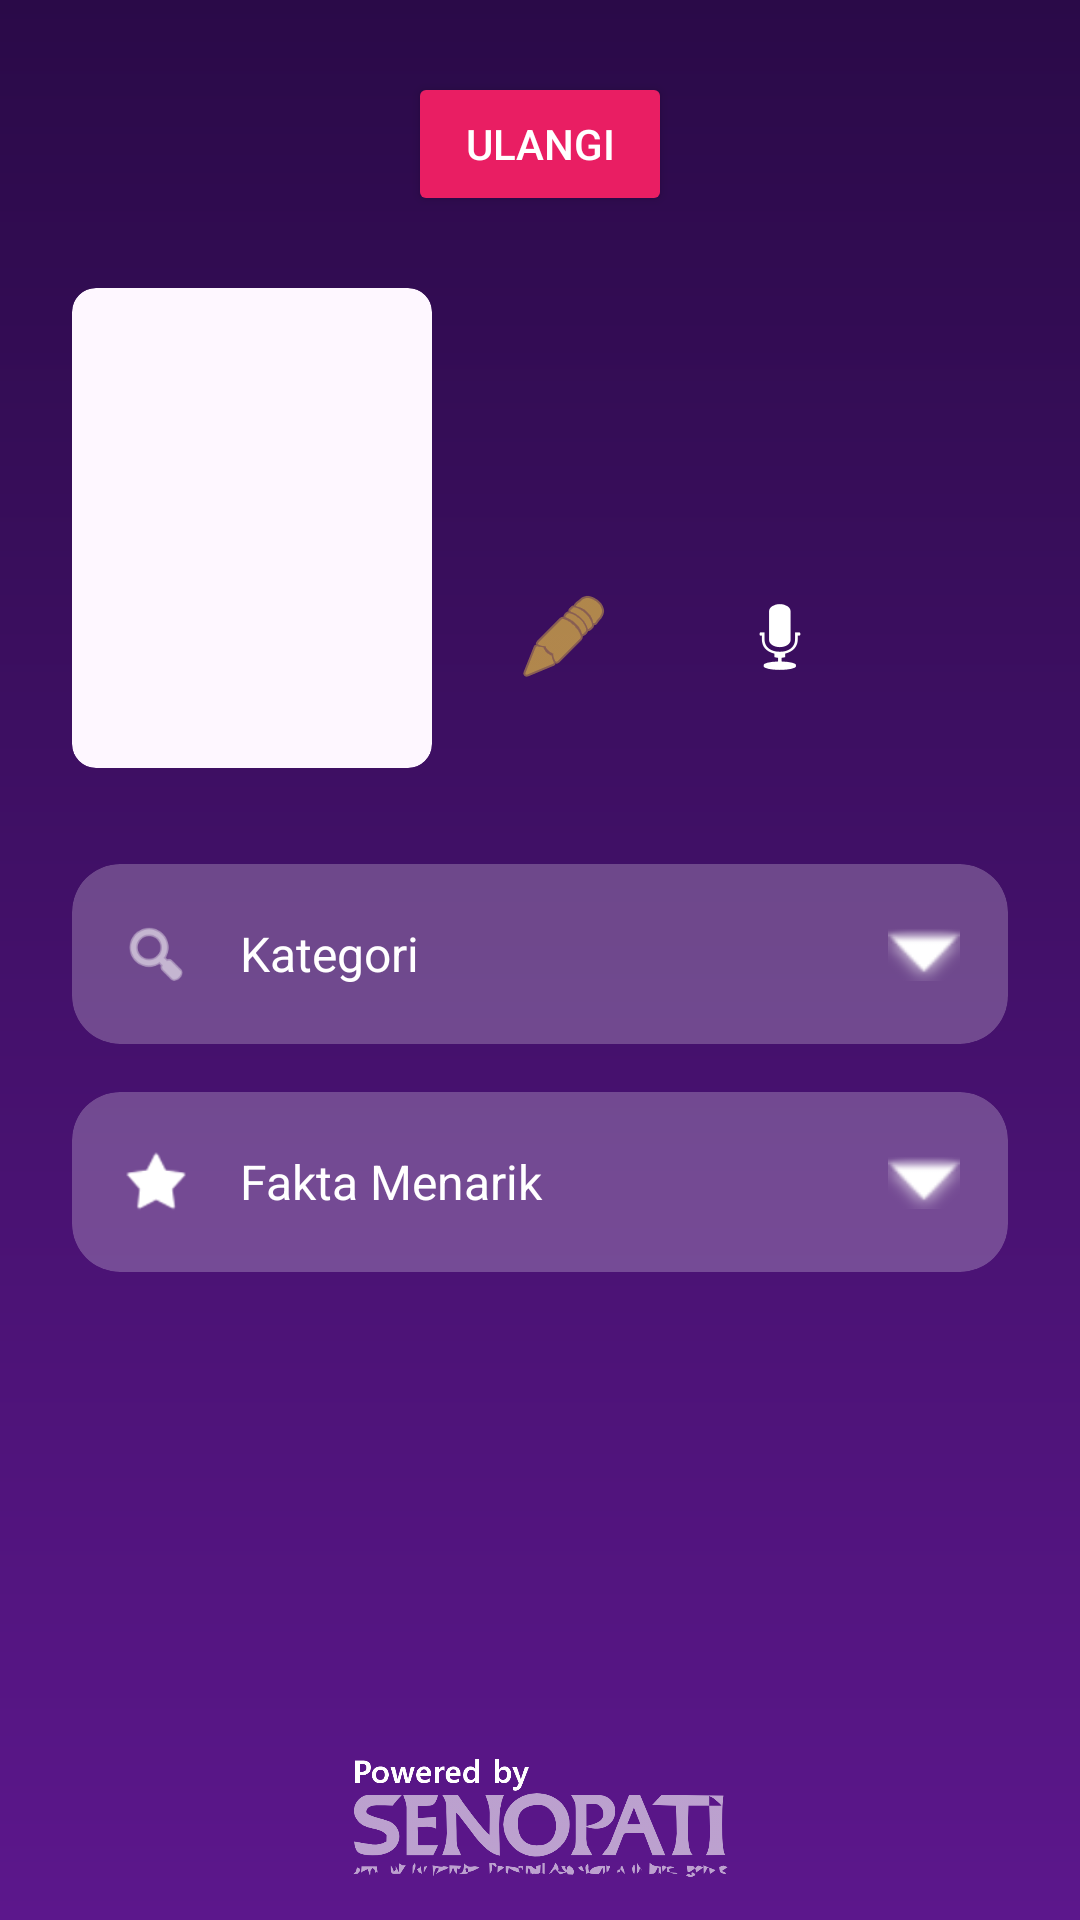

Screen size 1080px×1920px. Icon name, then its box in pixels as detection(x1, y1, x2, y2):
arrow down float: detection(888, 931, 960, 977), detection(888, 1159, 960, 1205)
Belajar Menulis: detection(523, 596, 604, 677)
Dengarkan Suara: detection(759, 604, 801, 670)
search: detection(129, 928, 183, 981)
star on: detection(126, 1153, 186, 1209)
